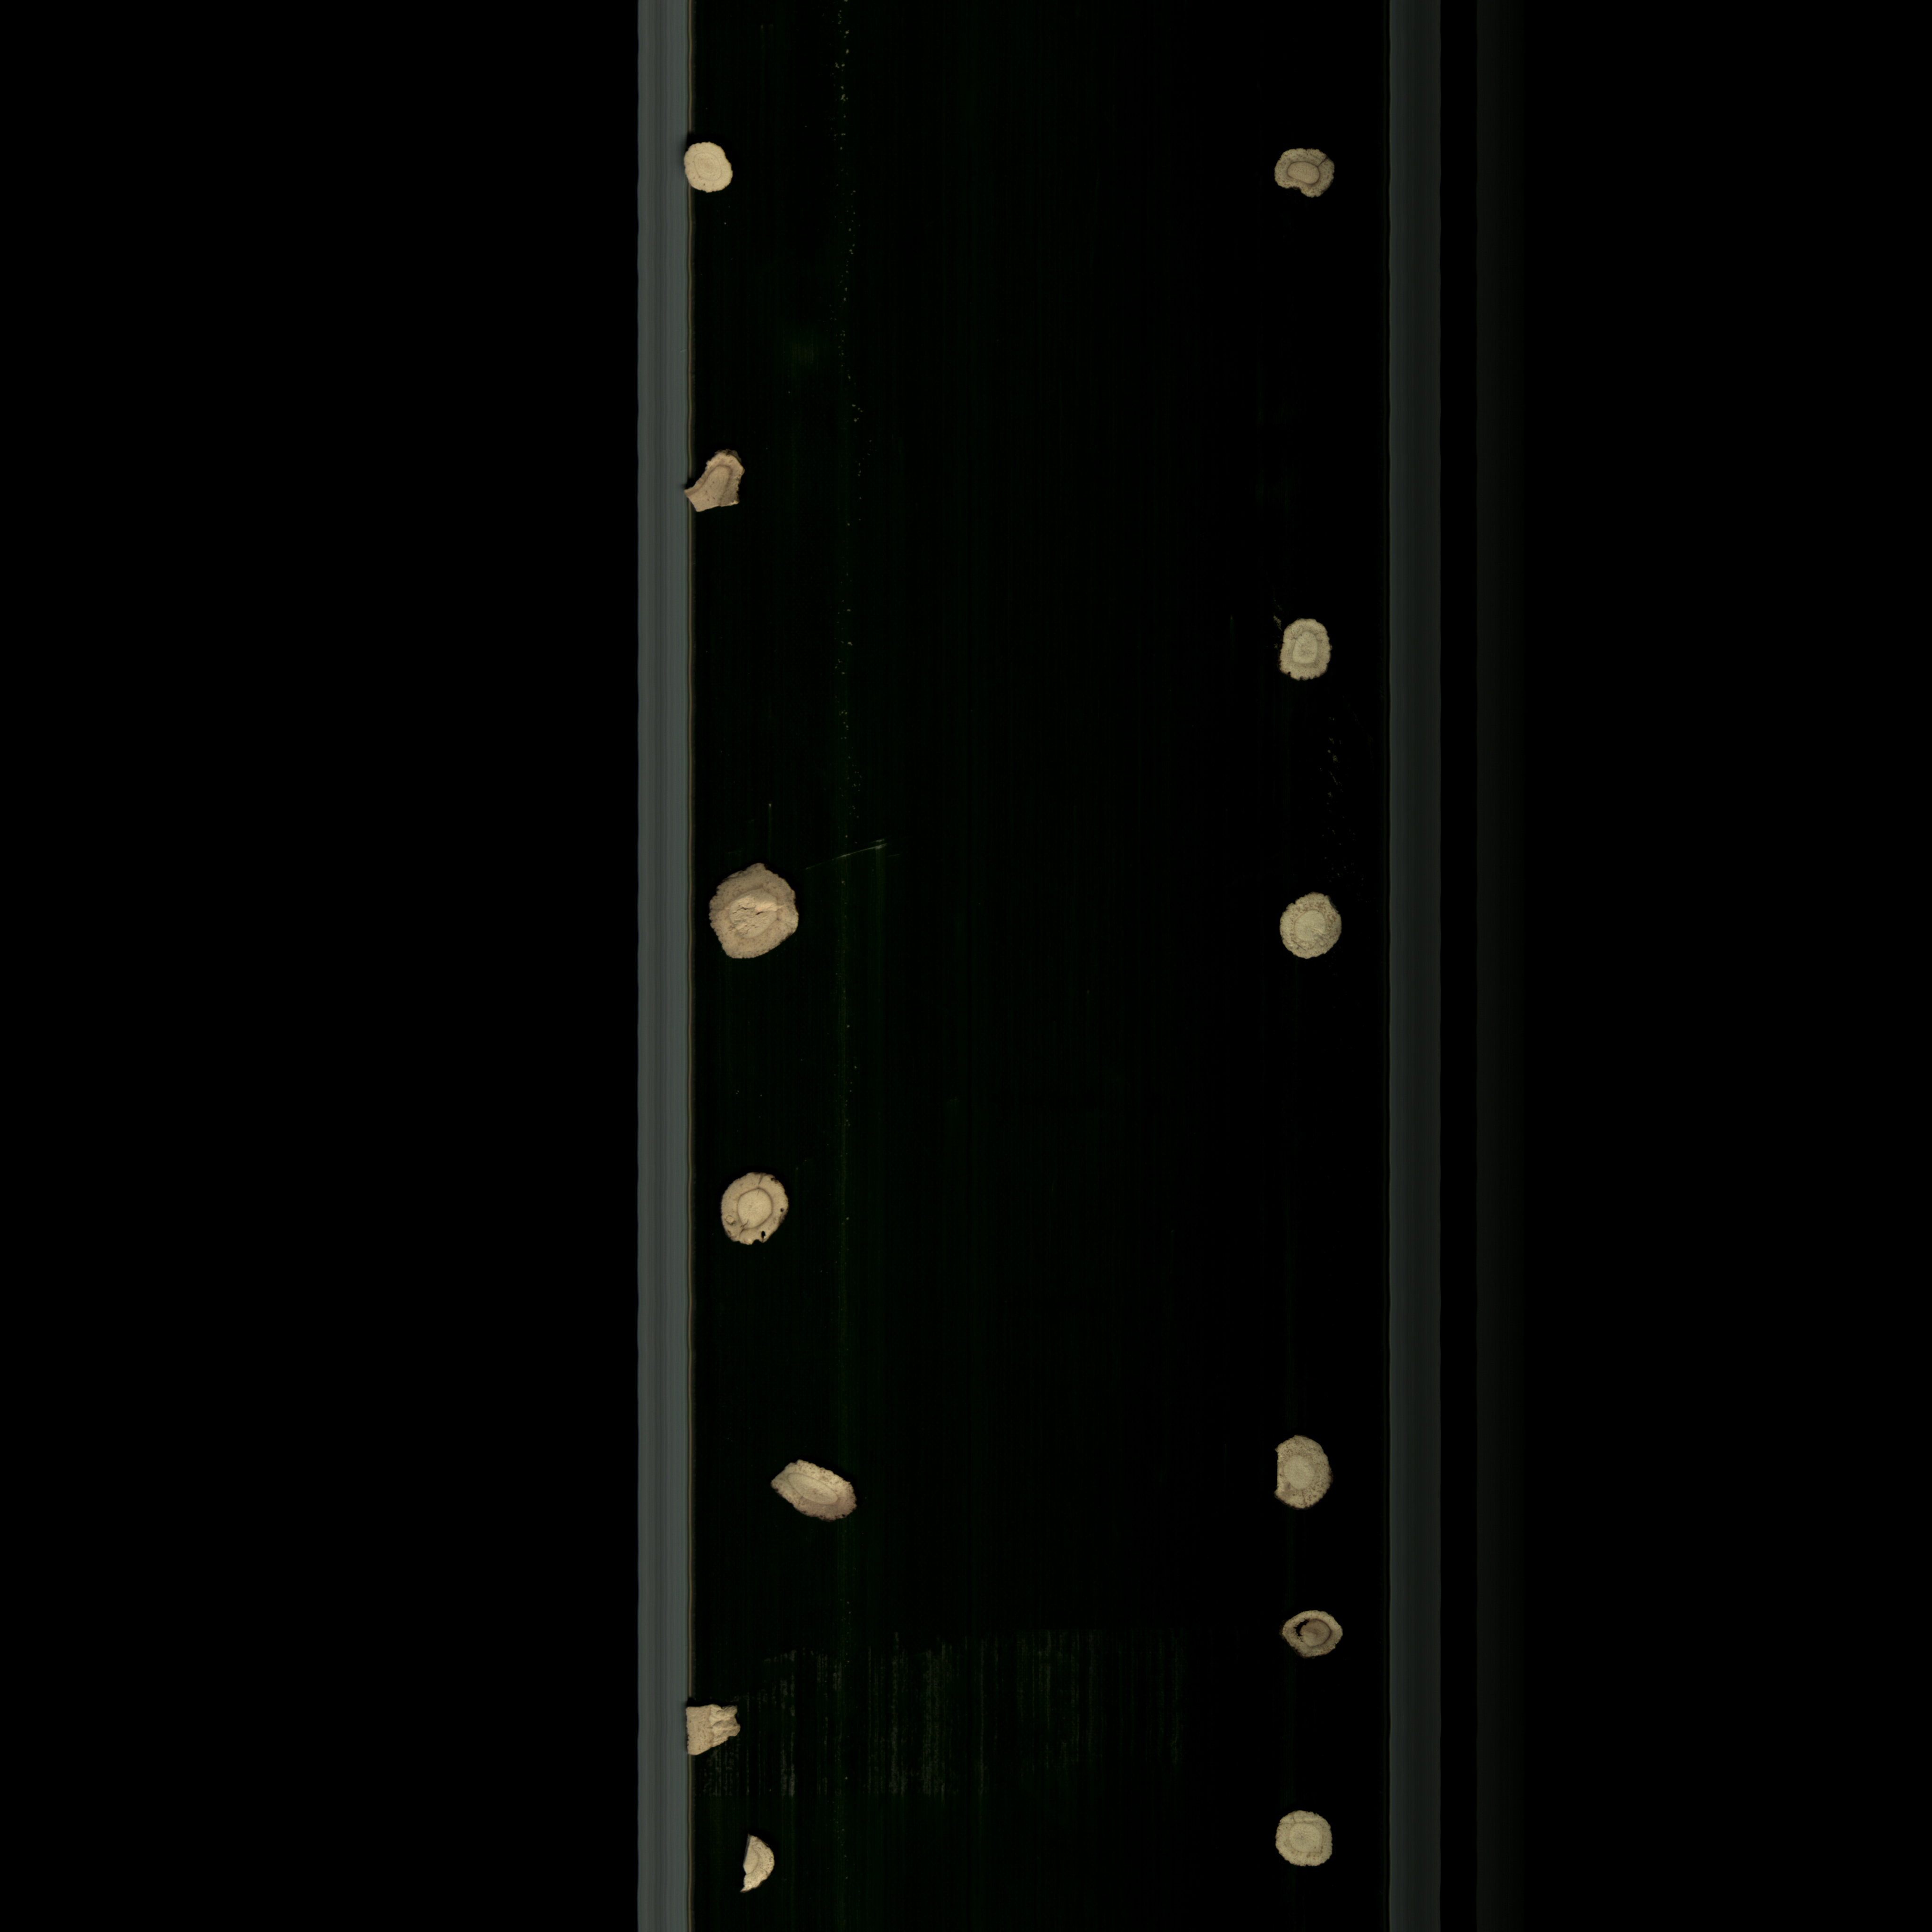debris: (1263, 1426, 1338, 1518)
distortion: (701, 862, 810, 970), (755, 1453, 869, 1541), (1276, 616, 1341, 692)
dreg: (727, 1829, 787, 1909), (676, 1700, 754, 1760)
hole: (713, 1168, 794, 1260)
moldy: (679, 446, 755, 520), (1269, 138, 1346, 209), (1265, 1603, 1353, 1663)
